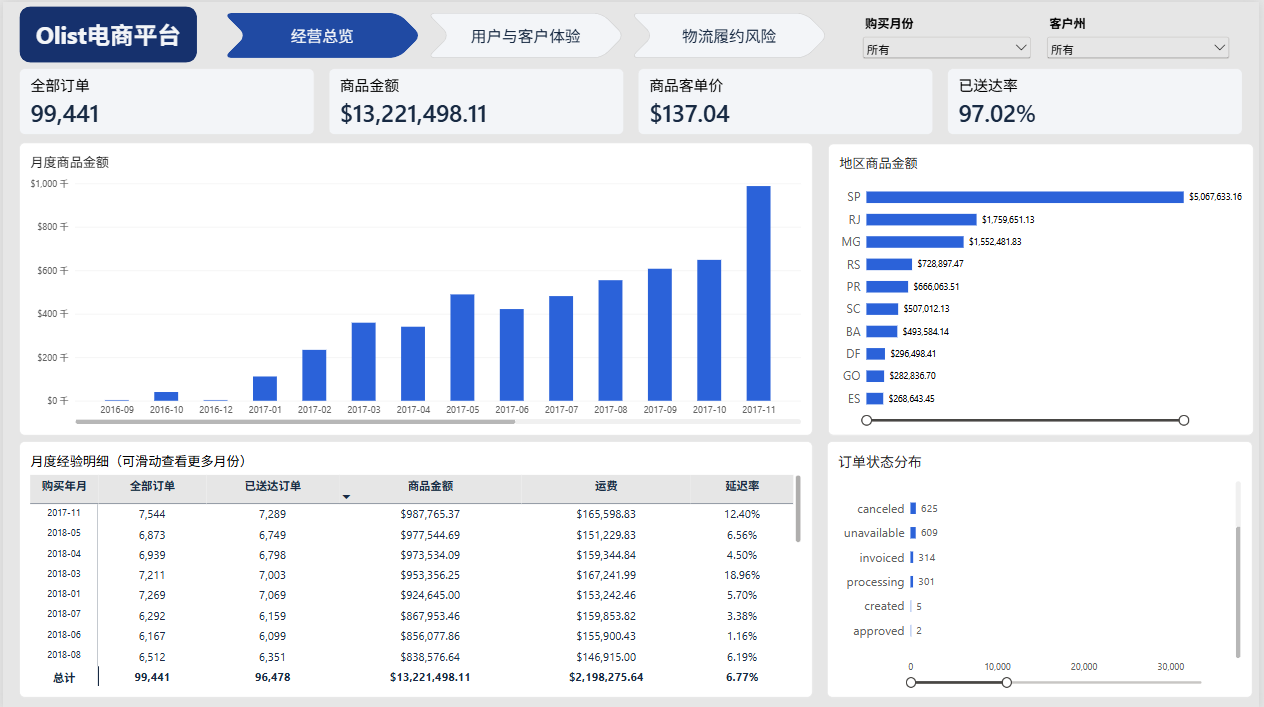

This screenshot's page, from the dashboard's own definition file:
{"tool":"powerbi","page":{"name":"经营总览","canvas":[1920,1080],"ordinal":0},"visuals":[{"type":"slicer","fields":{"Values":["FactOrders.customer_state"]},"box":[1592.3,18.6,288.8,82.8],"z":0},{"type":"cardVisual","fields":{"Data":["FactOrders.全部订单","FactOrders.商品金额","FactOrders.商品客单价","FactOrders.已送达率"]},"box":[25.3,101.3,1871.3,101.3],"z":1000},{"type":"clusteredBarChart","title":"地区商品金额","fields":{"Category":["FactOrders.customer_state"],"Y":["FactOrders.商品金额"]},"box":[1261.6,216.2,650.2,445.9],"z":2000},{"type":"pivotTable","title":"月度经验明细（可滑动查看更多月份）","fields":{"Rows":["DimDate.YearMonth"],"Values":["FactOrders.全部订单","FactOrders.已送达订单","FactOrders.商品金额","FactOrders.运费","FactOrders.延迟率"]},"box":[25.3,672.2,1212.6,391.8],"z":3000},{"type":"barChart","title":"订单状态分布","fields":{"Category":["FactOrders.order_status"],"Y":["FactOrders.全部订单"]},"box":[1259.9,672.2,650.2,391.8],"z":4000},{"type":"clusteredColumnChart","title":"月度商品金额","fields":{"Category":["DimDate.YearMonth"],"Y":["FactOrders.商品金额"]},"box":[25.3,214.5,1212.6,447.6],"z":5000},{"type":"slicer","fields":{"Values":["DimDate.YearMonth"]},"box":[1310.3,18.6,266.8,82.8],"z":6000},{"type":"actionButton","box":[25.3,6.8,271.9,86.1],"z":7000},{"type":"pageNavigator","box":[336,16,926,70],"z":8000}]}

Visuals, with their boxes in screenshot pixels (x1, y1, x2, y2), scaled from the page's 1920x1080 canvas onto the 1264x707 screenshot:
slicer - FactOrders.customer_state: BBox(1048, 12, 1238, 66)
cardVisual - FactOrders.全部订单 x FactOrders.商品金额: BBox(17, 66, 1249, 133)
"地区商品金额" clusteredBarChart: BBox(831, 142, 1259, 433)
"月度经验明细（可滑动查看更多月份）" pivotTable: BBox(17, 440, 815, 697)
"订单状态分布" barChart: BBox(829, 440, 1257, 697)
"月度商品金额" clusteredColumnChart: BBox(17, 140, 815, 433)
slicer - DimDate.YearMonth: BBox(863, 12, 1038, 66)
actionButton: BBox(17, 4, 196, 61)
pageNavigator: BBox(221, 10, 831, 56)
